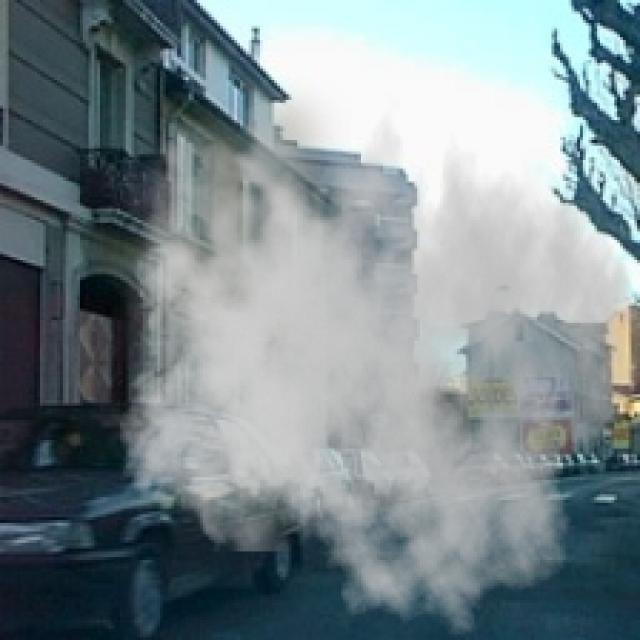smoke: (102, 77, 638, 639)
